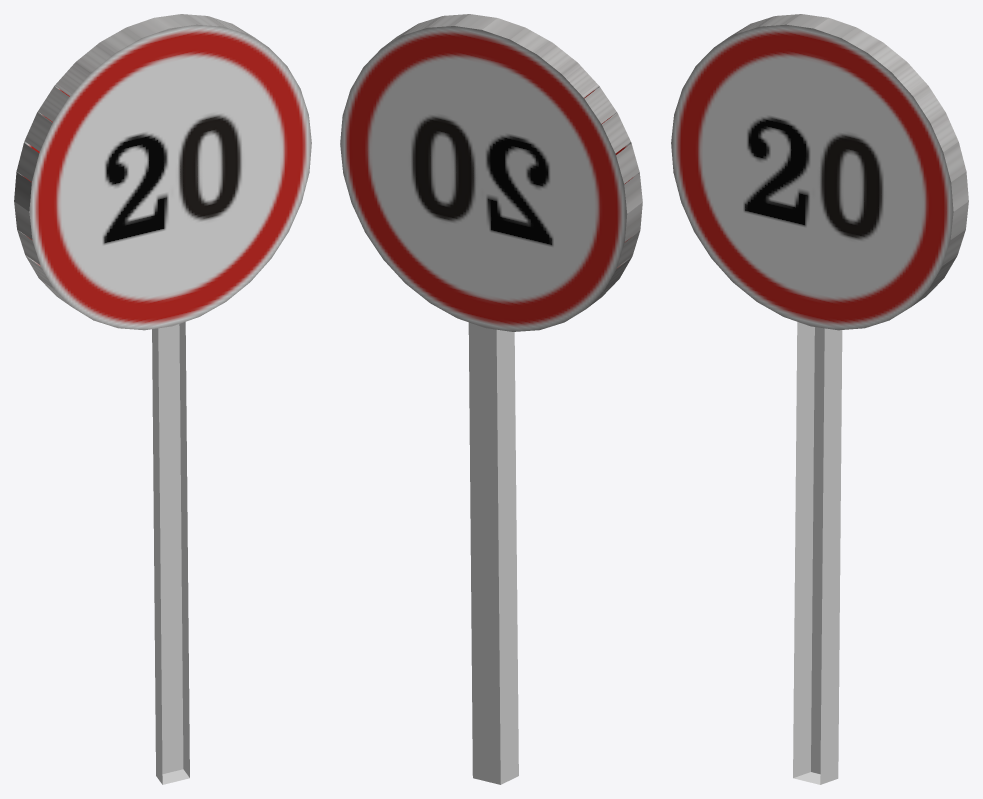
3 views of the same model, side by side, from view 1: azimuth 30°, elevation 25°; view 2: azimuth 150°, elevation 25°; view 3: azimuth 330°, elevation 25° (orthographic).
Visible parts, largest first — view 1: Cycle, Xui; view 2: Cycle, Xui; view 3: Cycle, Xui.
Part boxes in pixels (left/top/right/bottom): Cycle: left=14, top=14, right=311, bottom=330; Xui: left=152, top=322, right=189, bottom=784; Cycle: left=340, top=14, right=642, bottom=331; Xui: left=468, top=322, right=518, bottom=784; Cycle: left=671, top=14, right=968, bottom=330; Xui: left=793, top=322, right=842, bottom=784.
Size of the model in its own units: 0.2554 by 0.0352 by 0.6471.
1 material, 1 textured.
